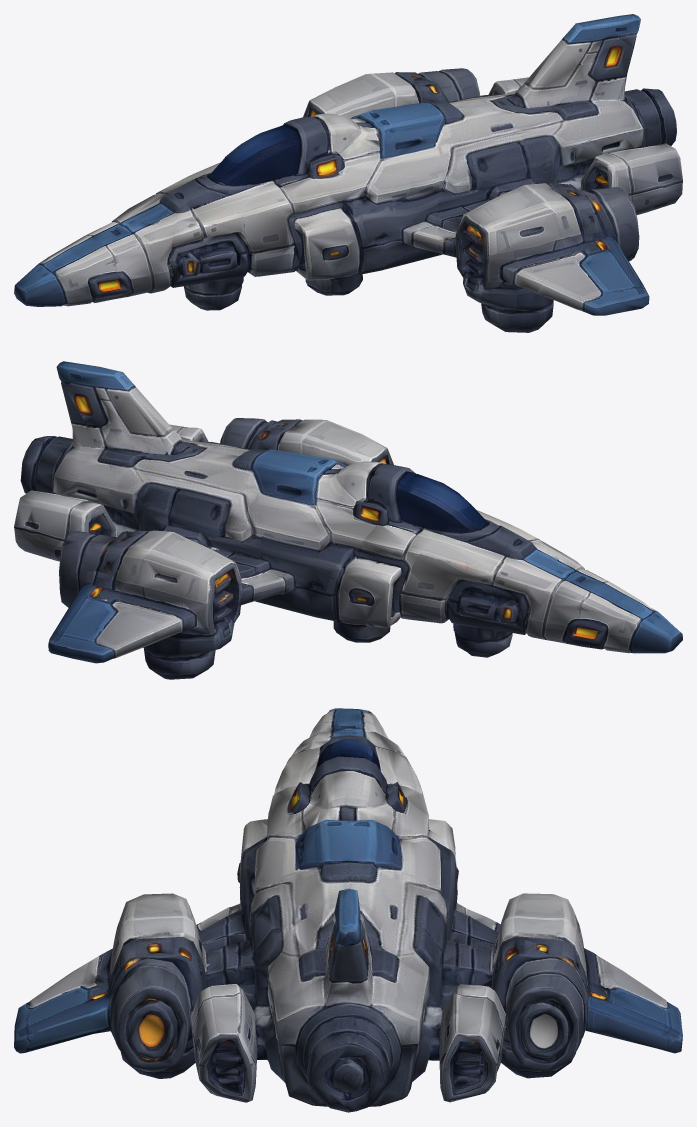
File: jet.glb
The picture shows the model from 3 angles, top to bottom: view 1: azimuth 30°, elevation 25°; view 2: azimuth 150°, elevation 25°; view 3: azimuth 270°, elevation 25°; orthographic projection. The views are drawn at different scales.
Visible parts, largest first — view 1: mesh_node; view 2: mesh_node; view 3: mesh_node.
Part boxes in pixels (bbox=[...]): mesh_node: bbox=[14, 14, 682, 332]; mesh_node: bbox=[14, 361, 682, 679]; mesh_node: bbox=[14, 708, 682, 1112].
Size of the model in its own units: 1.9 by 0.5981 by 1.39.
1 material, 1 textured.
